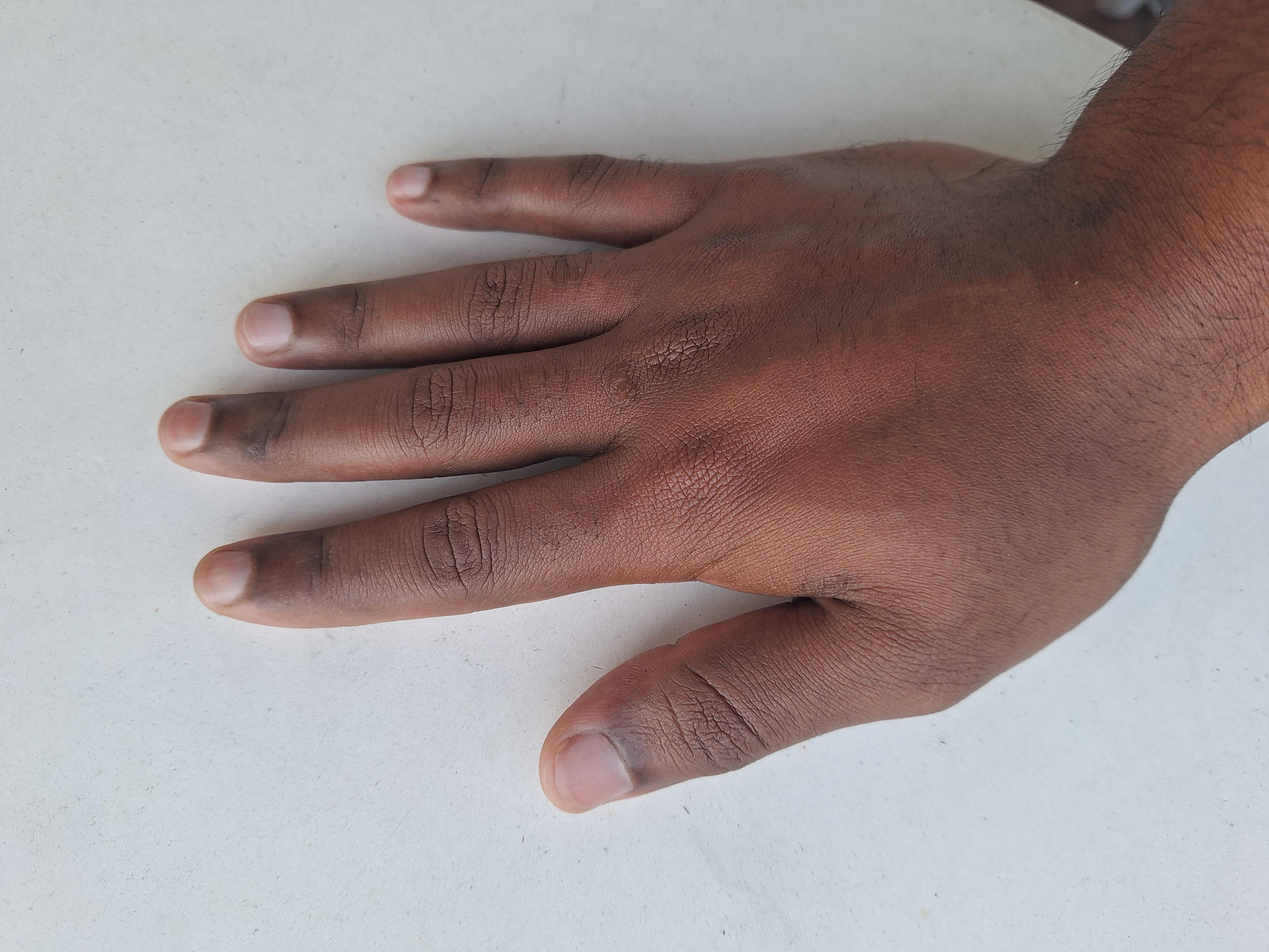Fingernail: (555, 732, 634, 813), (197, 550, 252, 607), (162, 401, 212, 457), (245, 303, 293, 356), (391, 166, 431, 204)
